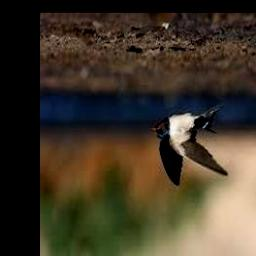Swallow: (152, 104, 228, 186)
